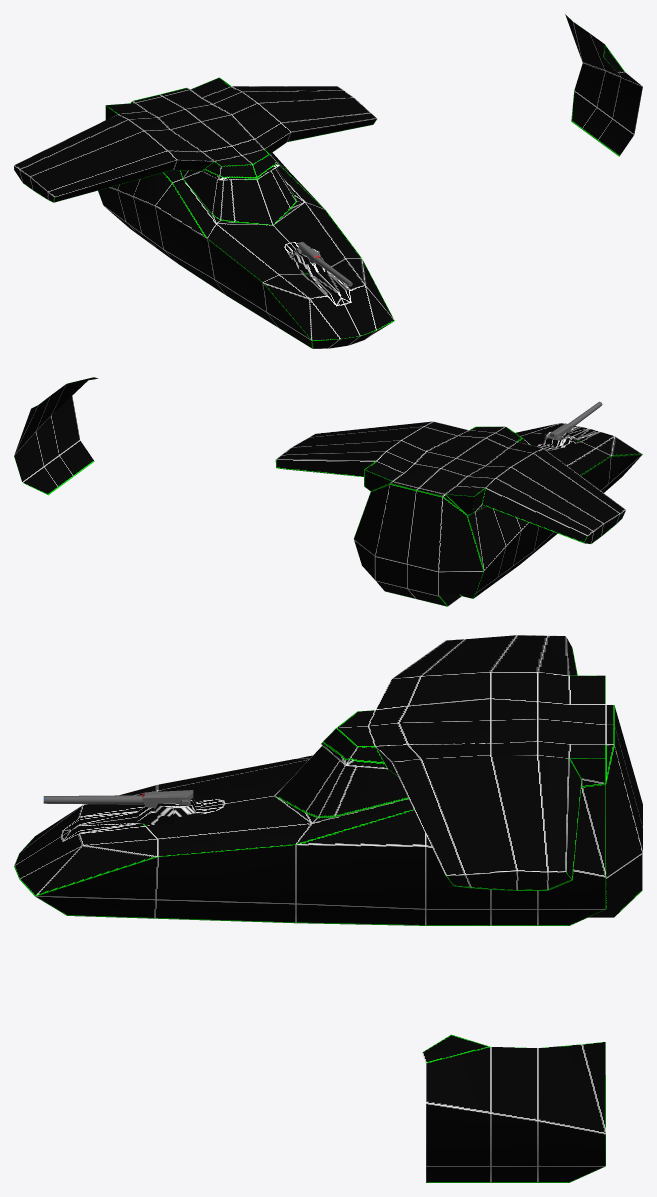
Rendered from MMZ Mimoza.FBX.
3 views of the same model, one above another, from view 1: azimuth 30°, elevation 25°; view 2: azimuth 150°, elevation 25°; view 3: azimuth 270°, elevation 25° (orthographic). The views are drawn at different scales.
Visible parts, largest first — view 1: Box001, SideBackLeft, Gun; view 2: Box001, SideBackLeft, Gun; view 3: Box001, SideBackLeft, Gun.
Part boxes in pixels (x1,y1,x2,y2): Box001: [14, 77, 394, 348]; SideBackLeft: [565, 14, 642, 156]; Gun: [295, 241, 352, 286]; Box001: [275, 421, 642, 606]; SideBackLeft: [14, 377, 98, 495]; Gun: [547, 401, 602, 440]; Box001: [14, 635, 642, 925]; SideBackLeft: [422, 1034, 605, 1182]; Gun: [43, 790, 193, 808].
Size of what is drawn, in the model's own units: 830 by 164 by 520.
